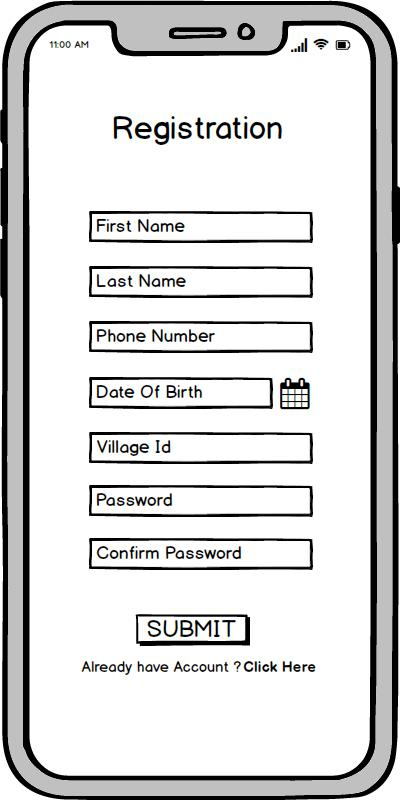EditText: (89, 211, 314, 244), (89, 266, 314, 299), (89, 321, 314, 354), (89, 485, 314, 518), (89, 432, 313, 465), (89, 538, 314, 570), (89, 377, 274, 410)
Icon: (279, 378, 311, 410)
Text: (113, 114, 284, 148)
TextButton: (80, 660, 317, 676), (136, 614, 251, 646)
